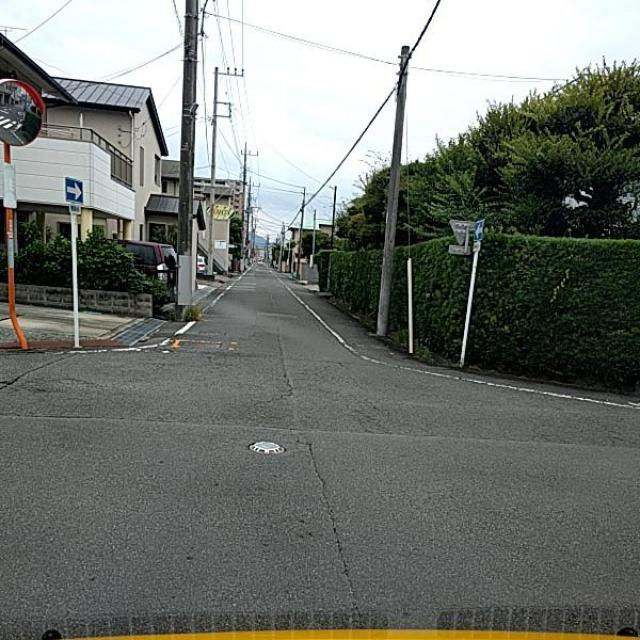Crack: (222, 295, 430, 613)
